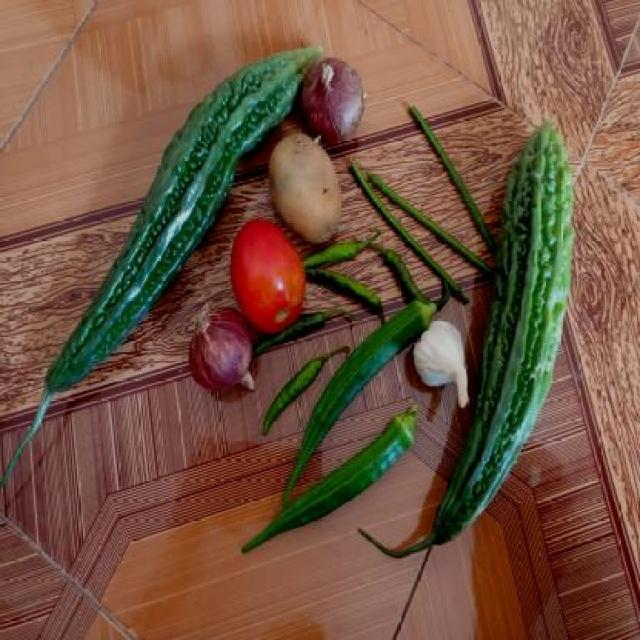Onion: (186, 310, 251, 404), (302, 57, 366, 140)
Potato: (266, 136, 340, 247)
Tomato: (232, 217, 305, 334)
